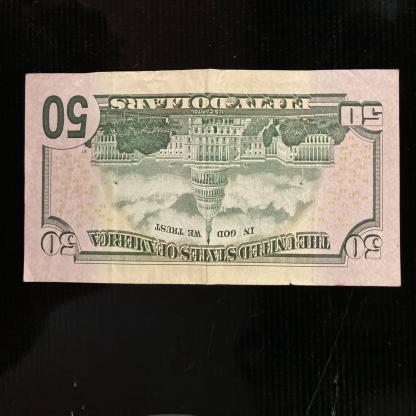fifty-back: (22, 68, 402, 286)
